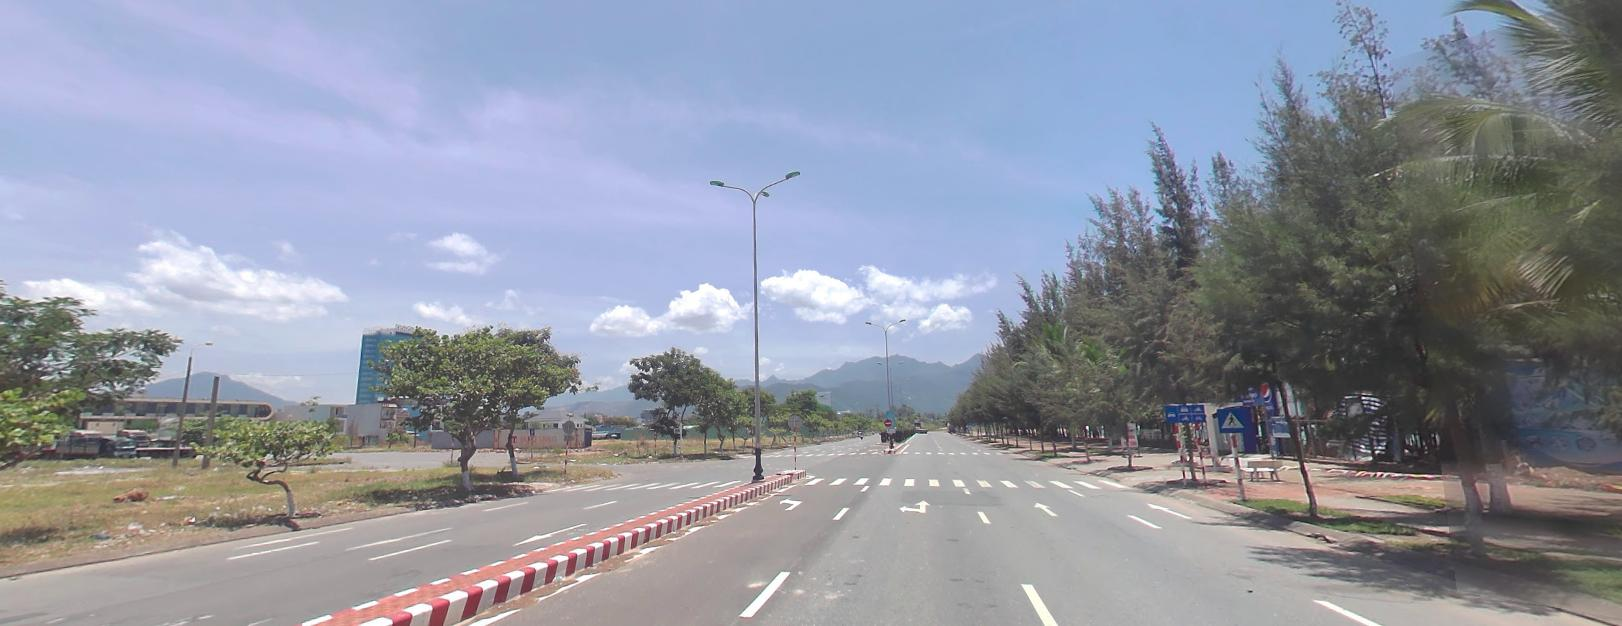Cam nguoc chieu: (884, 417, 891, 425)
